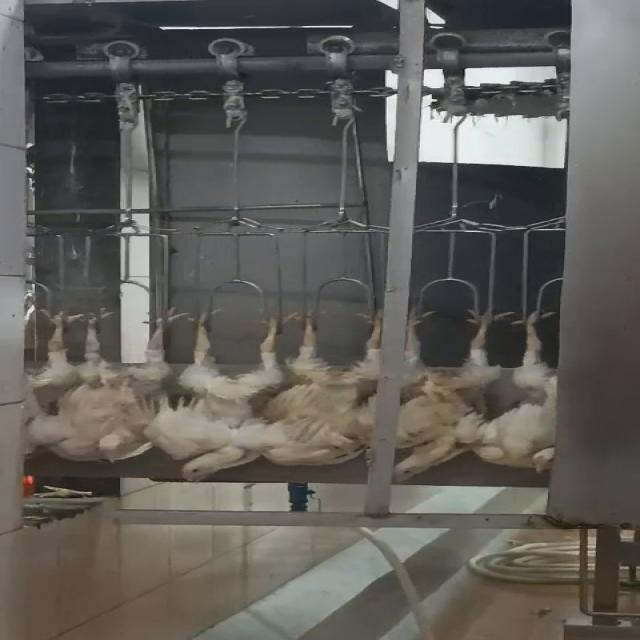chicken: (162, 307, 317, 487), (386, 298, 514, 482), (81, 298, 202, 466), (277, 303, 392, 470), (500, 308, 584, 480), (16, 295, 99, 460)
